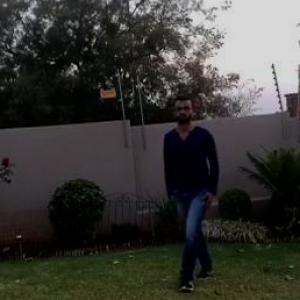follow: (164, 92, 219, 292)
